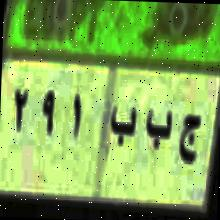1: (66, 92, 88, 143)
2: (10, 80, 32, 146)
9: (38, 81, 59, 147)
baa: (141, 104, 174, 153), (110, 102, 138, 156)
jeem: (176, 110, 205, 170)
